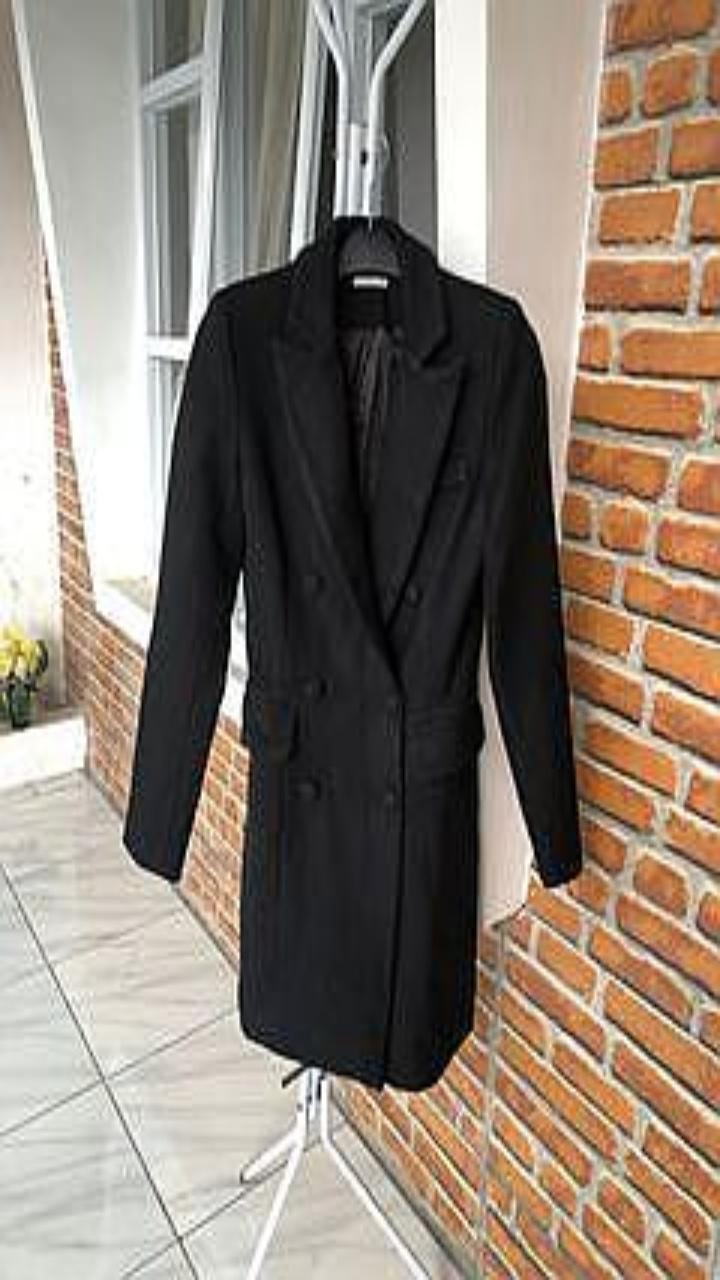Coat: (123, 214, 582, 1089)
